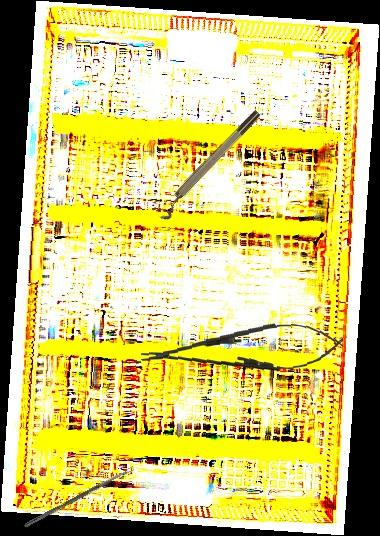Fixation Ring: (152, 108, 267, 223)
Needle Holder: (139, 318, 345, 380)
Surgical Spoon: (23, 466, 135, 529)
